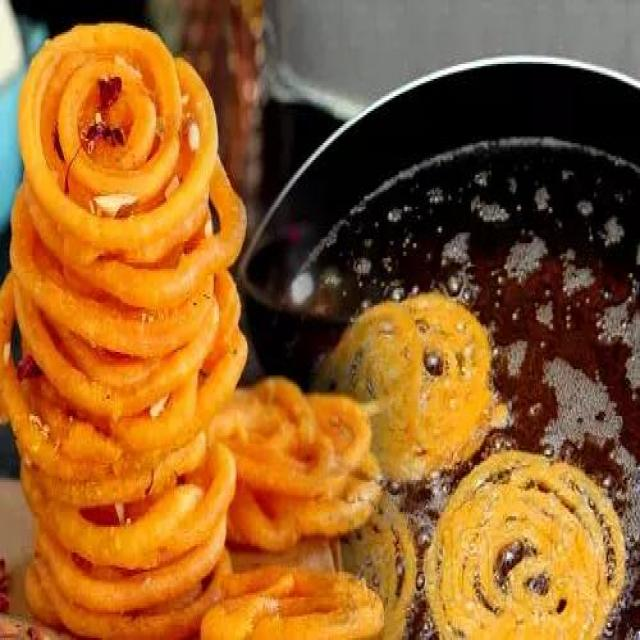jalebi: (8, 19, 245, 636), (252, 282, 624, 640)
